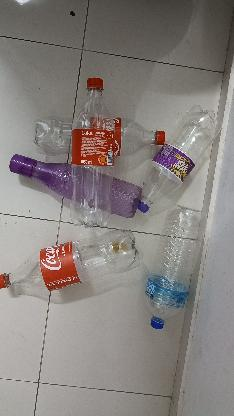Plastic Bottle: (2, 228, 138, 294), (146, 223, 194, 334), (73, 74, 117, 176), (167, 96, 227, 146), (7, 151, 68, 199), (144, 151, 198, 189)
